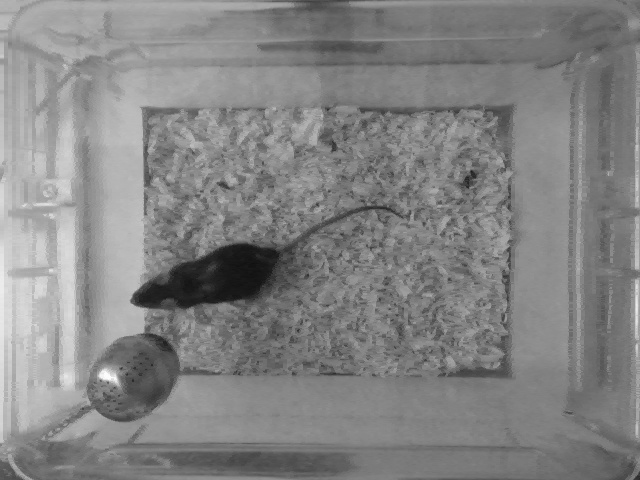mice: (126, 196, 408, 312)
